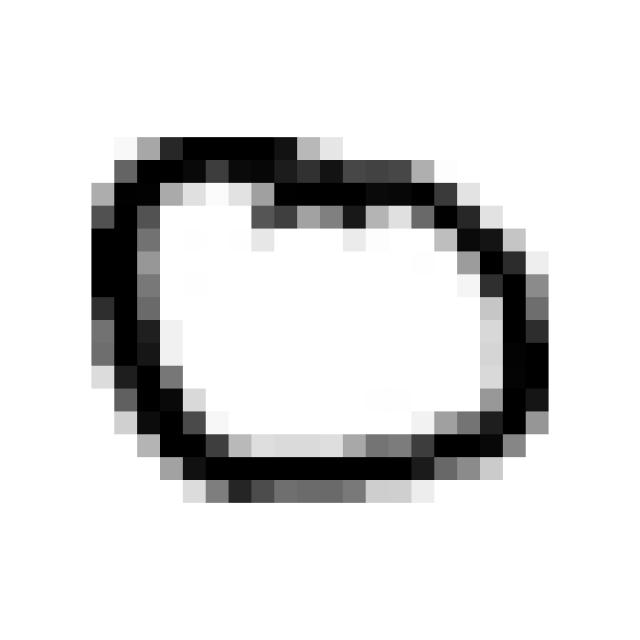5 -five-: (69, 117, 562, 522)
